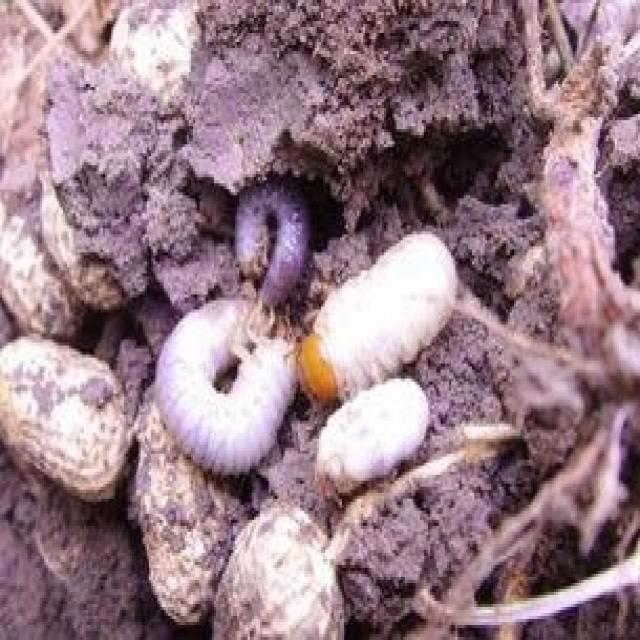grub: (155, 282, 300, 489), (298, 222, 468, 375), (317, 378, 441, 489), (228, 159, 312, 294)
